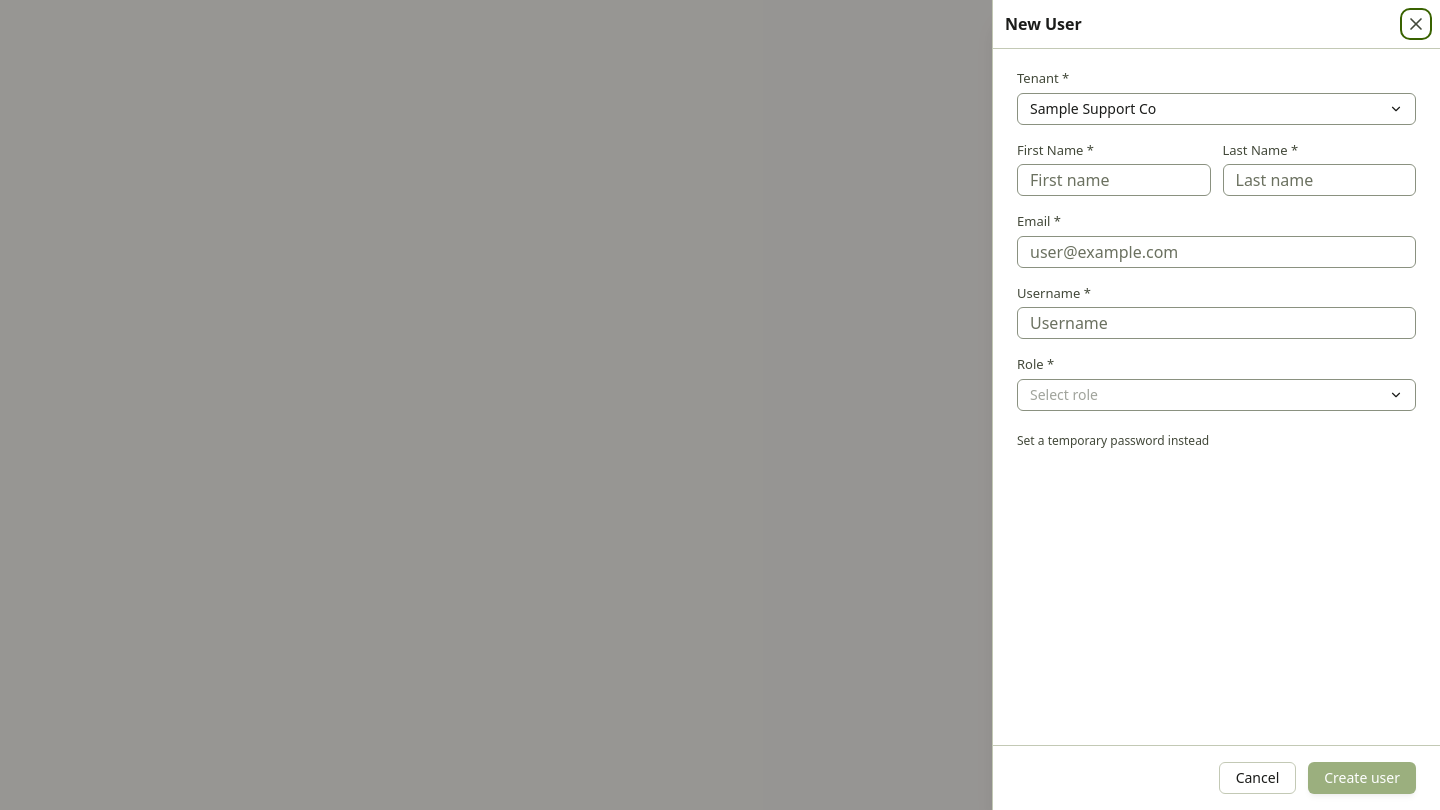
Test: UserFormPanel create: an address the server wants checked › still shows any other refusal as the error it is, with no question
The width and height of the screenshot is (1440, 810).
Type "New" into the field labelled "First Name *". click: (1114, 180)
box: [1017,164,1210,196]
Type "Person" into the field labelled "Last Name *". click: (1319, 180)
box: [1222,164,1416,196]
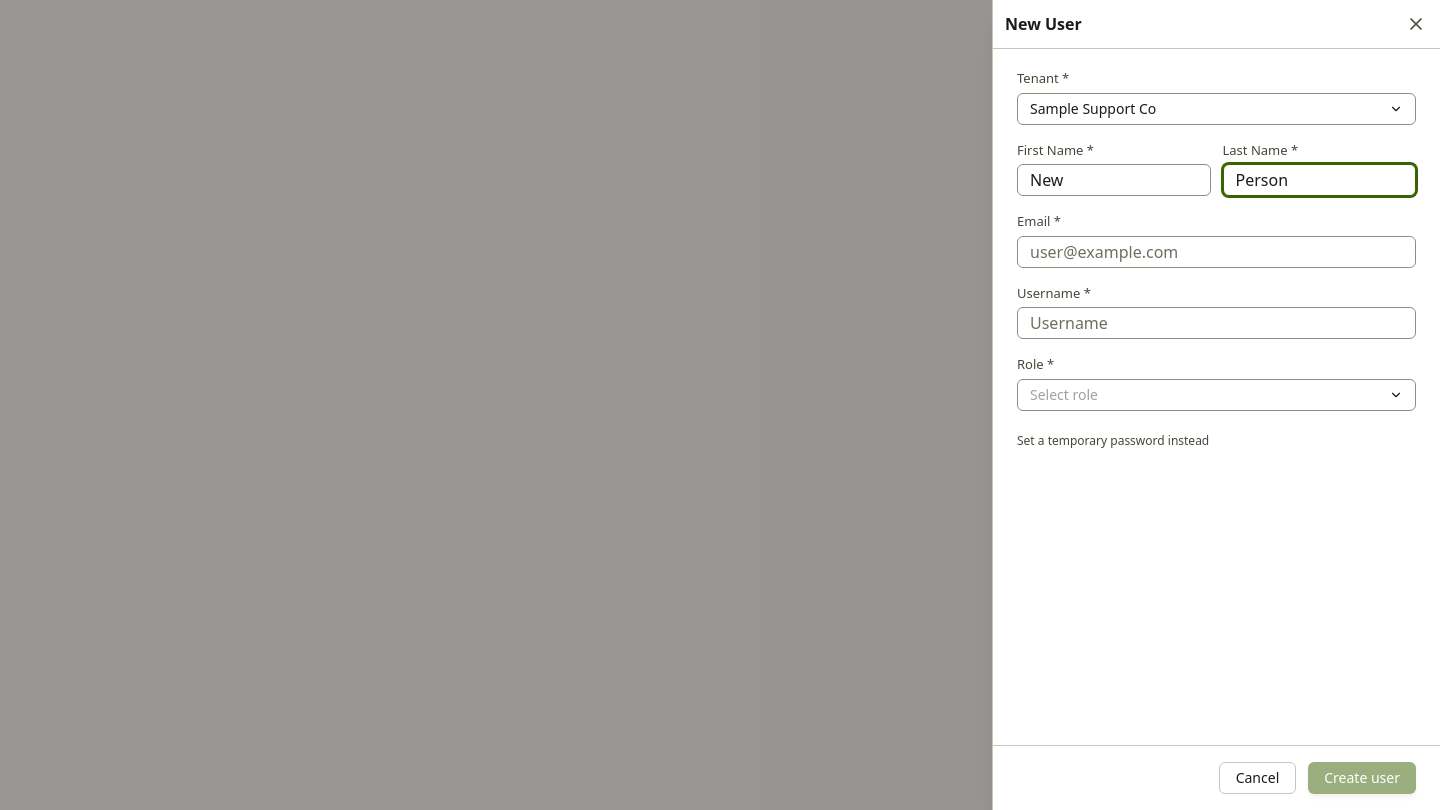
Type "new.person@gmial.com" into the field labelled "Email *". click: (1216, 252)
box: [1017,236,1416,268]
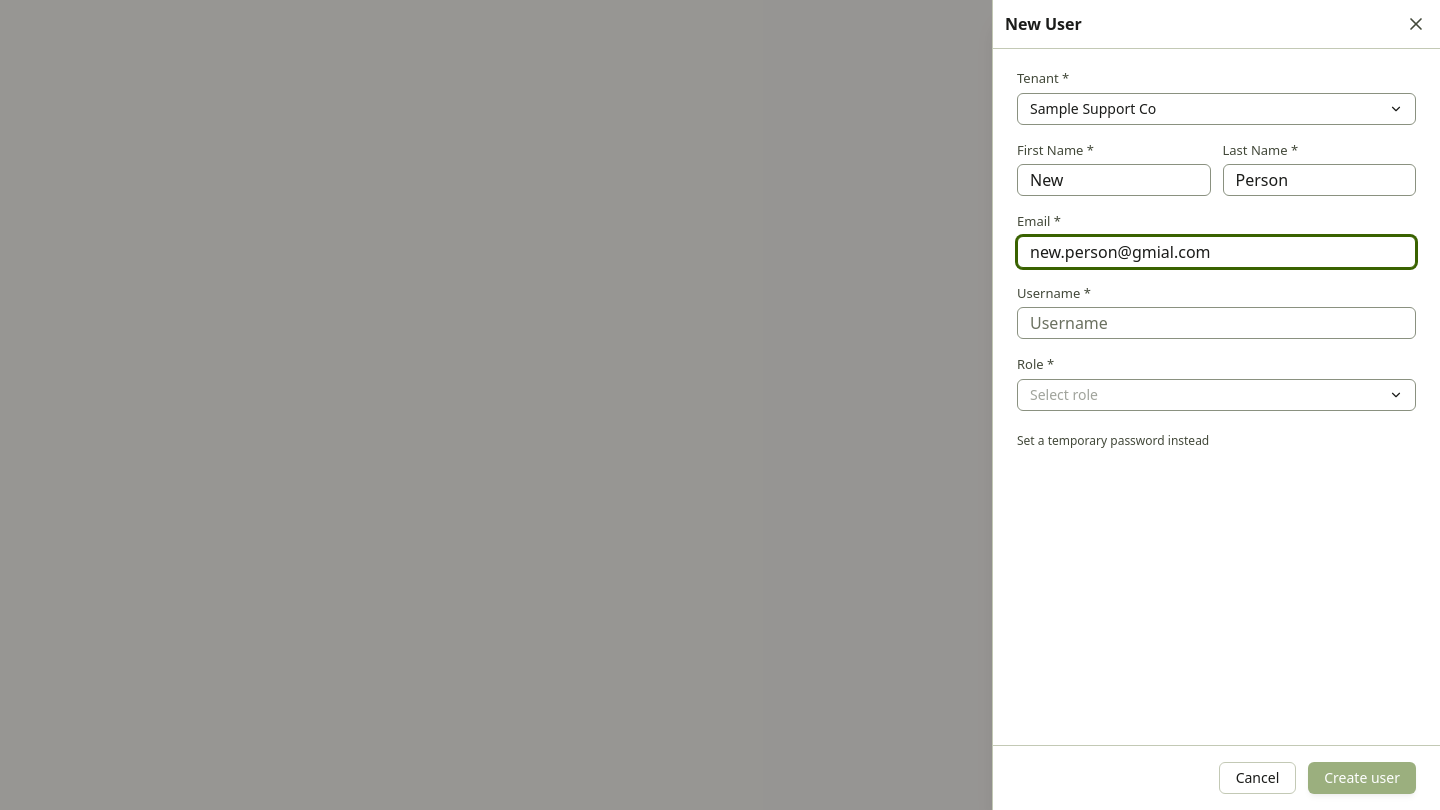
Type "newperson" into the field labelled "Username *". click: (1216, 323)
box: [1017,307,1416,339]
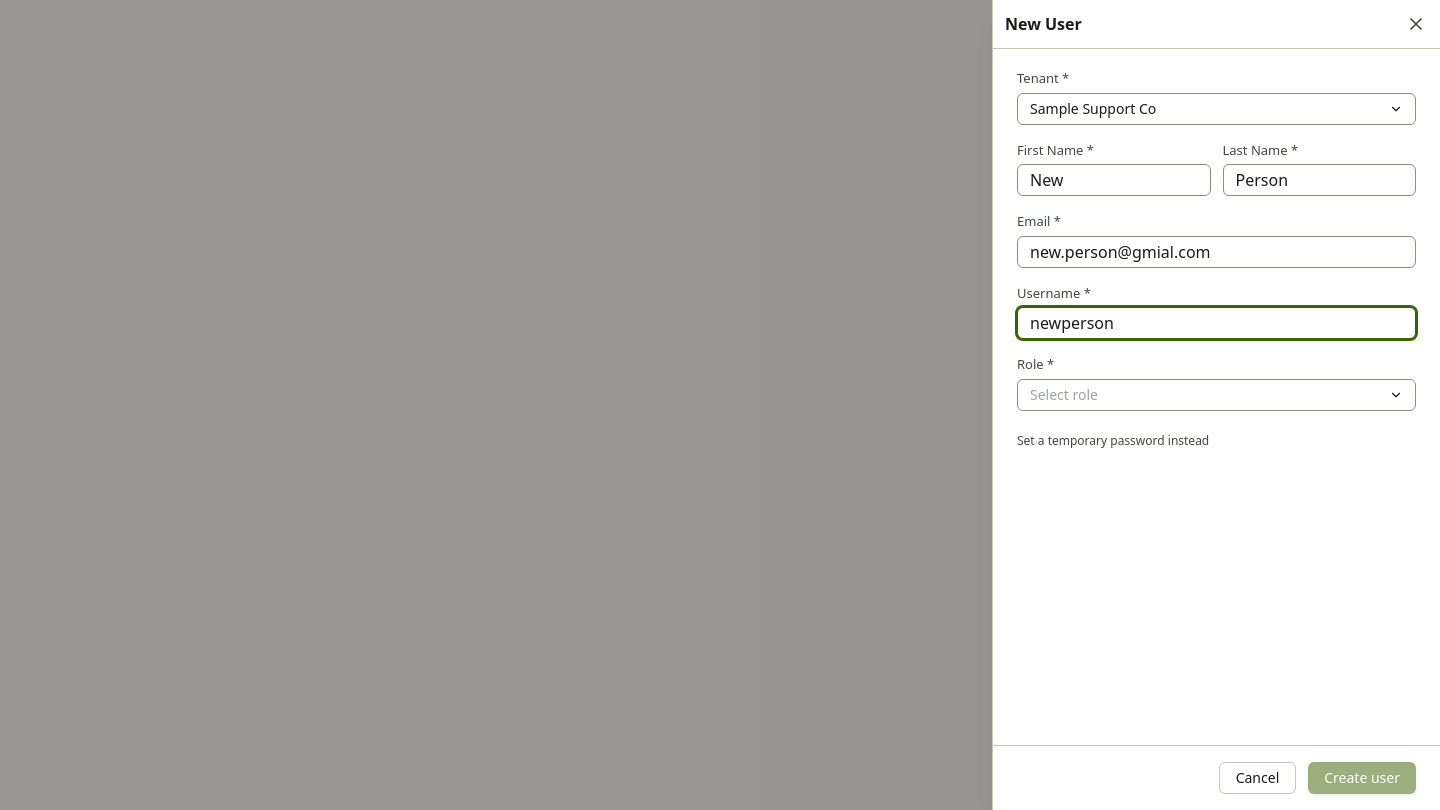
Click the button named "Role *". click: (1064, 394)
box: [1017,378,1416,410]
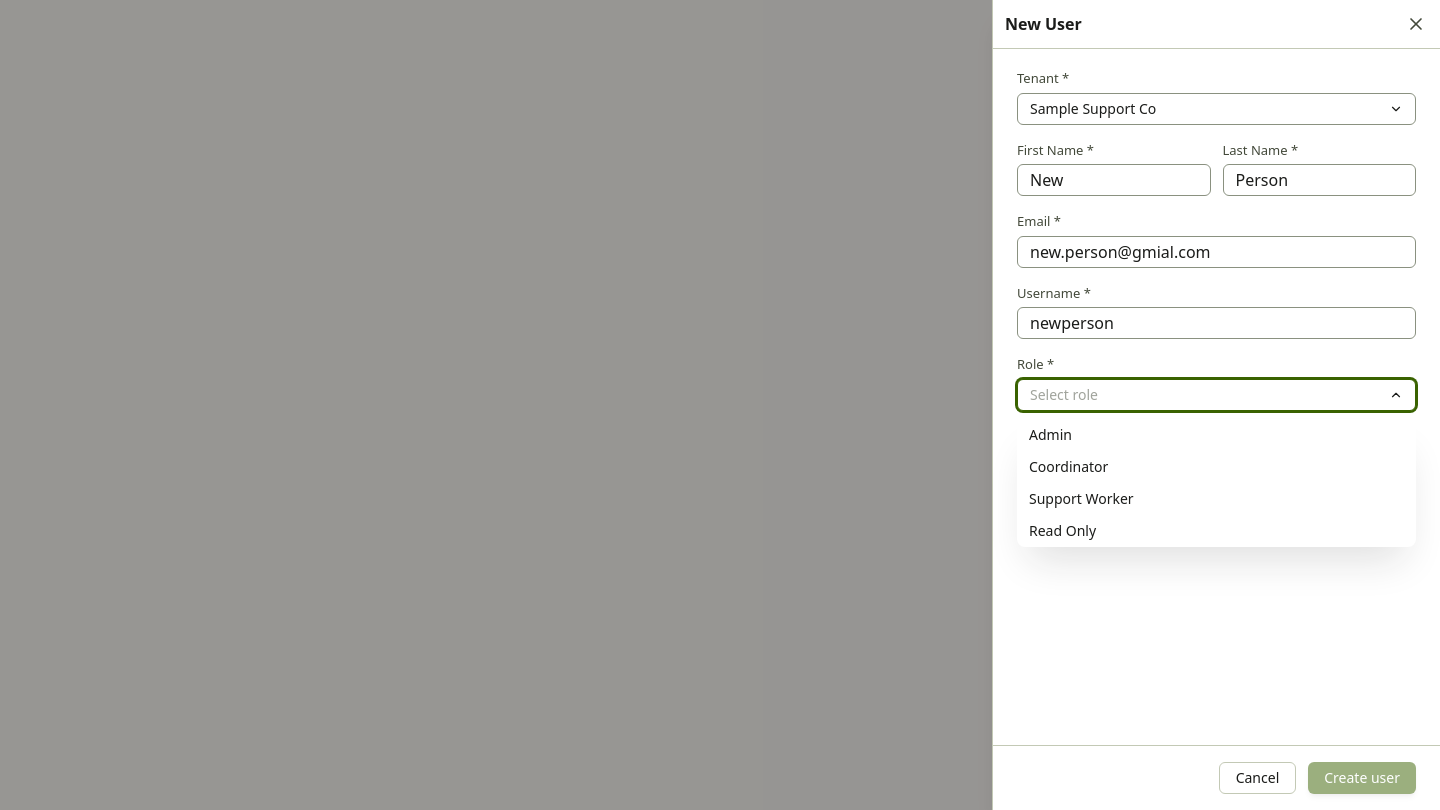
Click the option "Coordinator". click: (1069, 466)
box: [1029,456,1108,476]
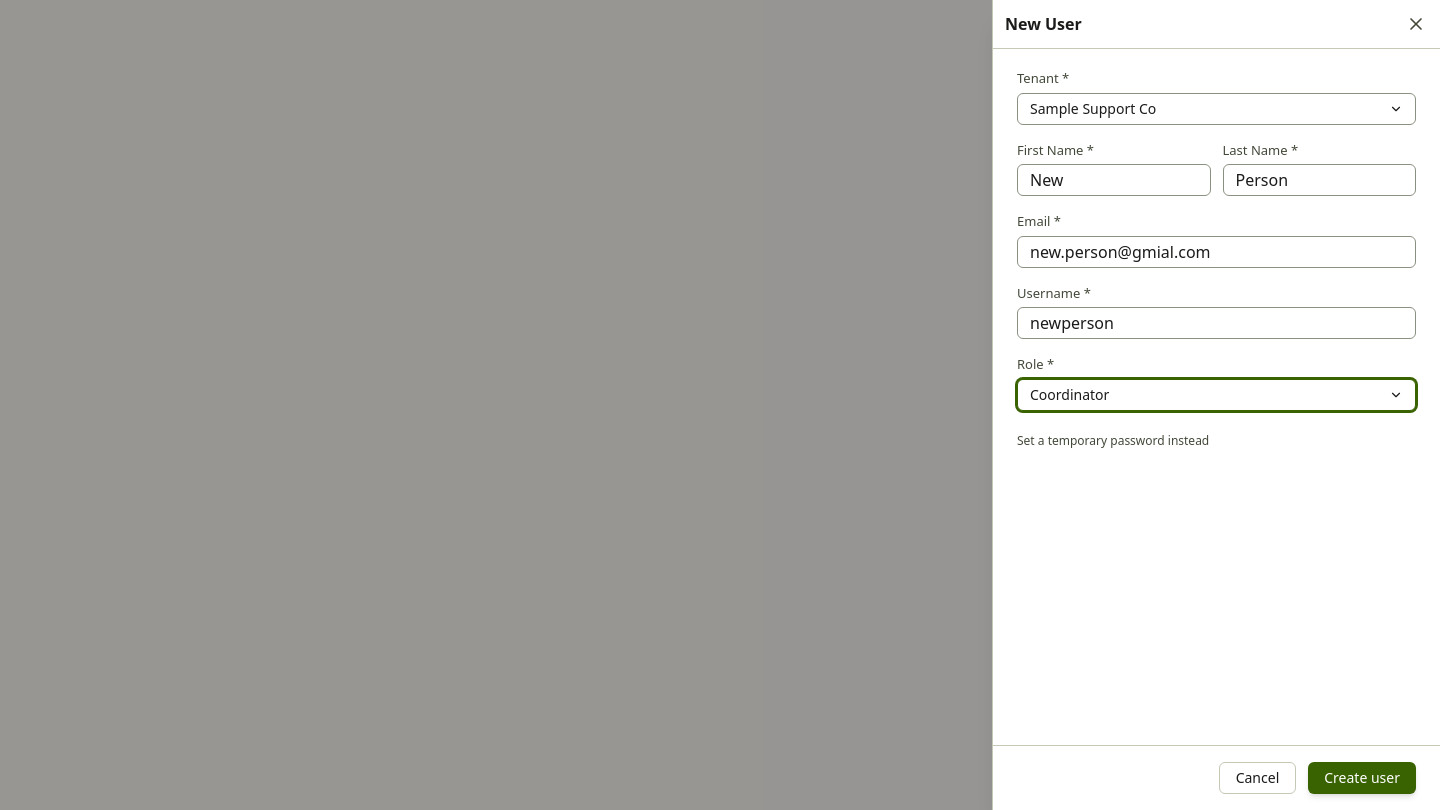
Click the button "Create user". click: (1362, 778)
box: [1308,762,1416,794]
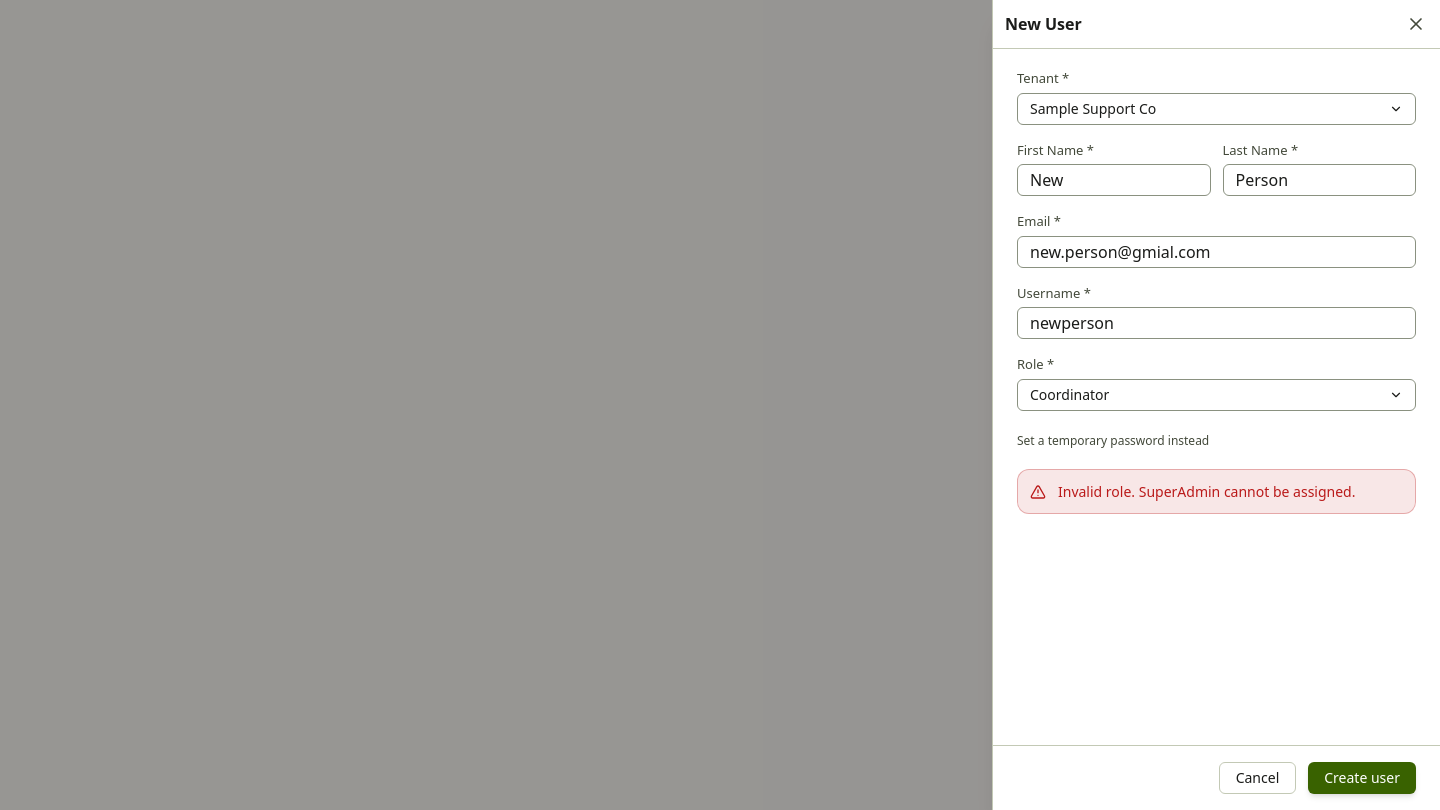
Result: the text "Invalid role. SuperAdmin cannot be assigned." is shown at [1058,482,1403,501]
